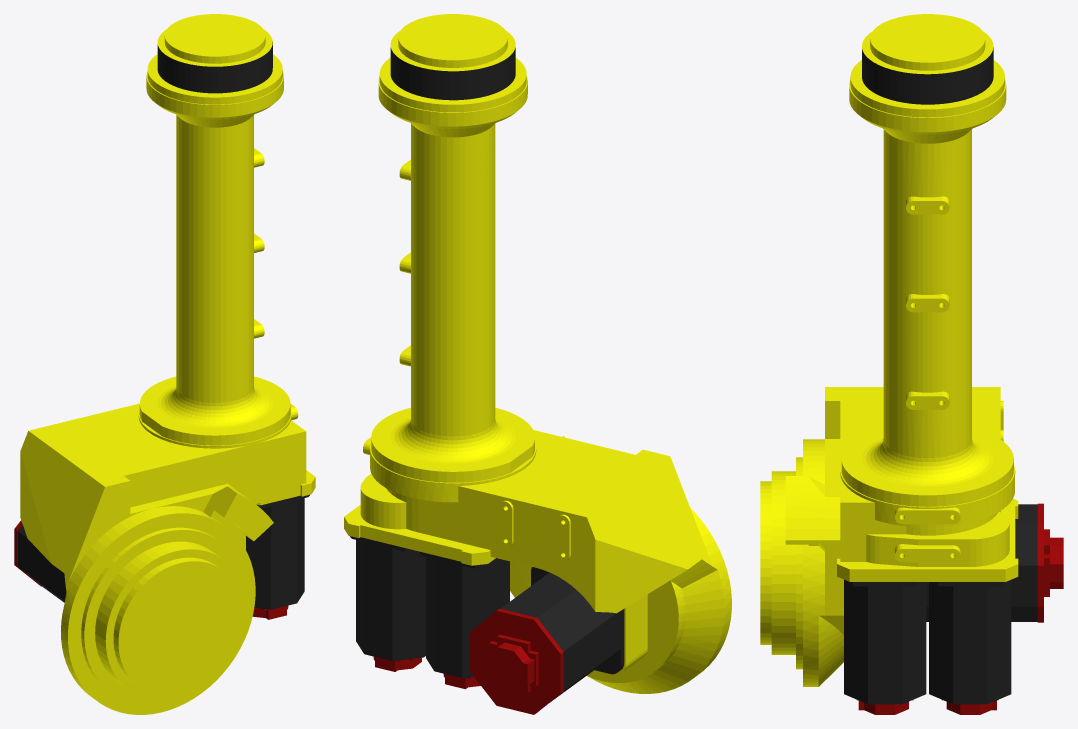
3 renders of one model, left to right at view 1: azimuth 30°, elevation 25°; view 2: azimuth 150°, elevation 25°; view 3: azimuth 270°, elevation 25°, orthographic. The views are drawn at different scales.
Parts seen in each view (by area): view 1: node; view 2: node; view 3: node.
Boxes of the visible parts, <box> form: node: <box>14,14,315,714</box>; node: <box>344,14,731,714</box>; node: <box>760,14,1063,714</box>.
Size of the model in its own units: 563 by 1214 by 479.
